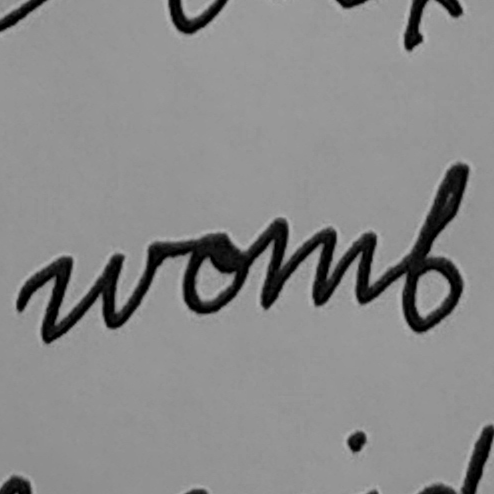b: (397, 159, 473, 336)
m: (254, 213, 382, 313)
o: (177, 226, 251, 320)
w: (34, 235, 167, 345)
